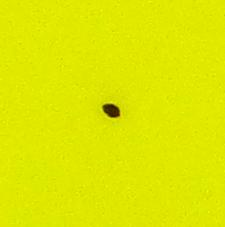Coleoptera: (100, 100, 125, 127)
